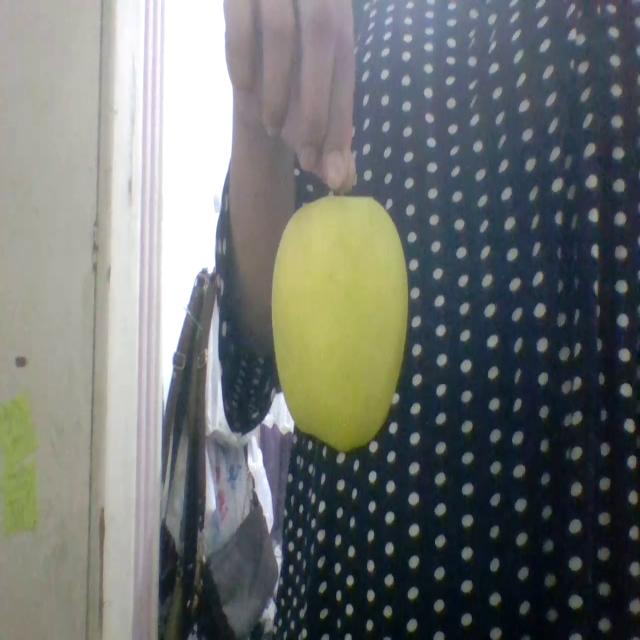50-_ripeness: (270, 194, 406, 449)
